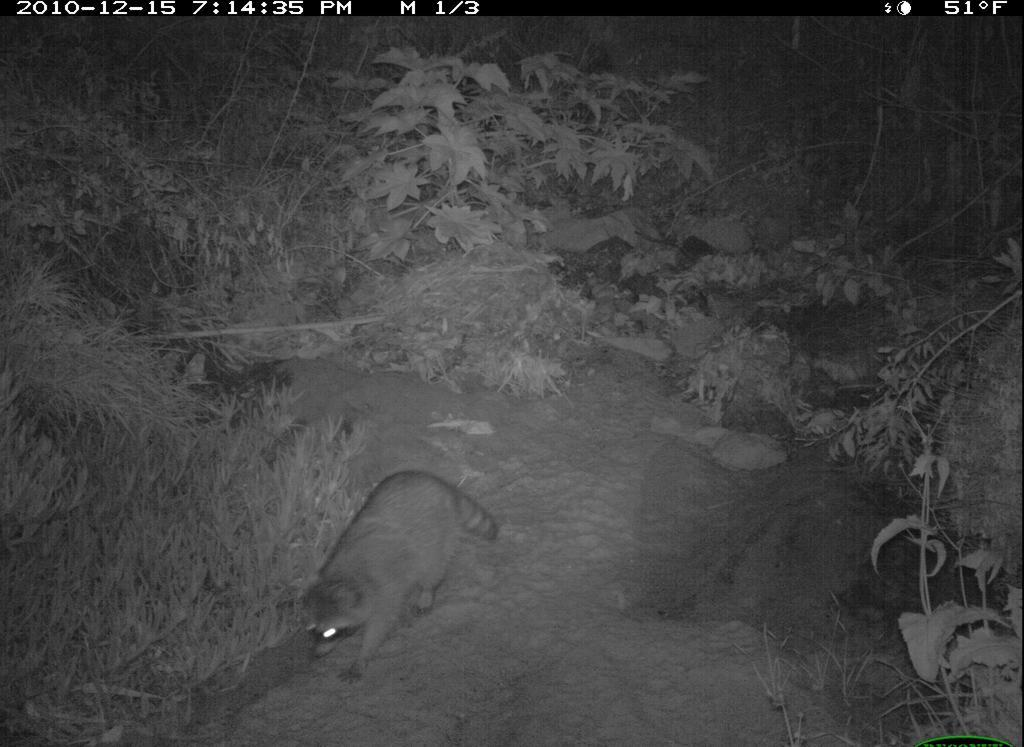raccoon: (299, 466, 502, 688)
